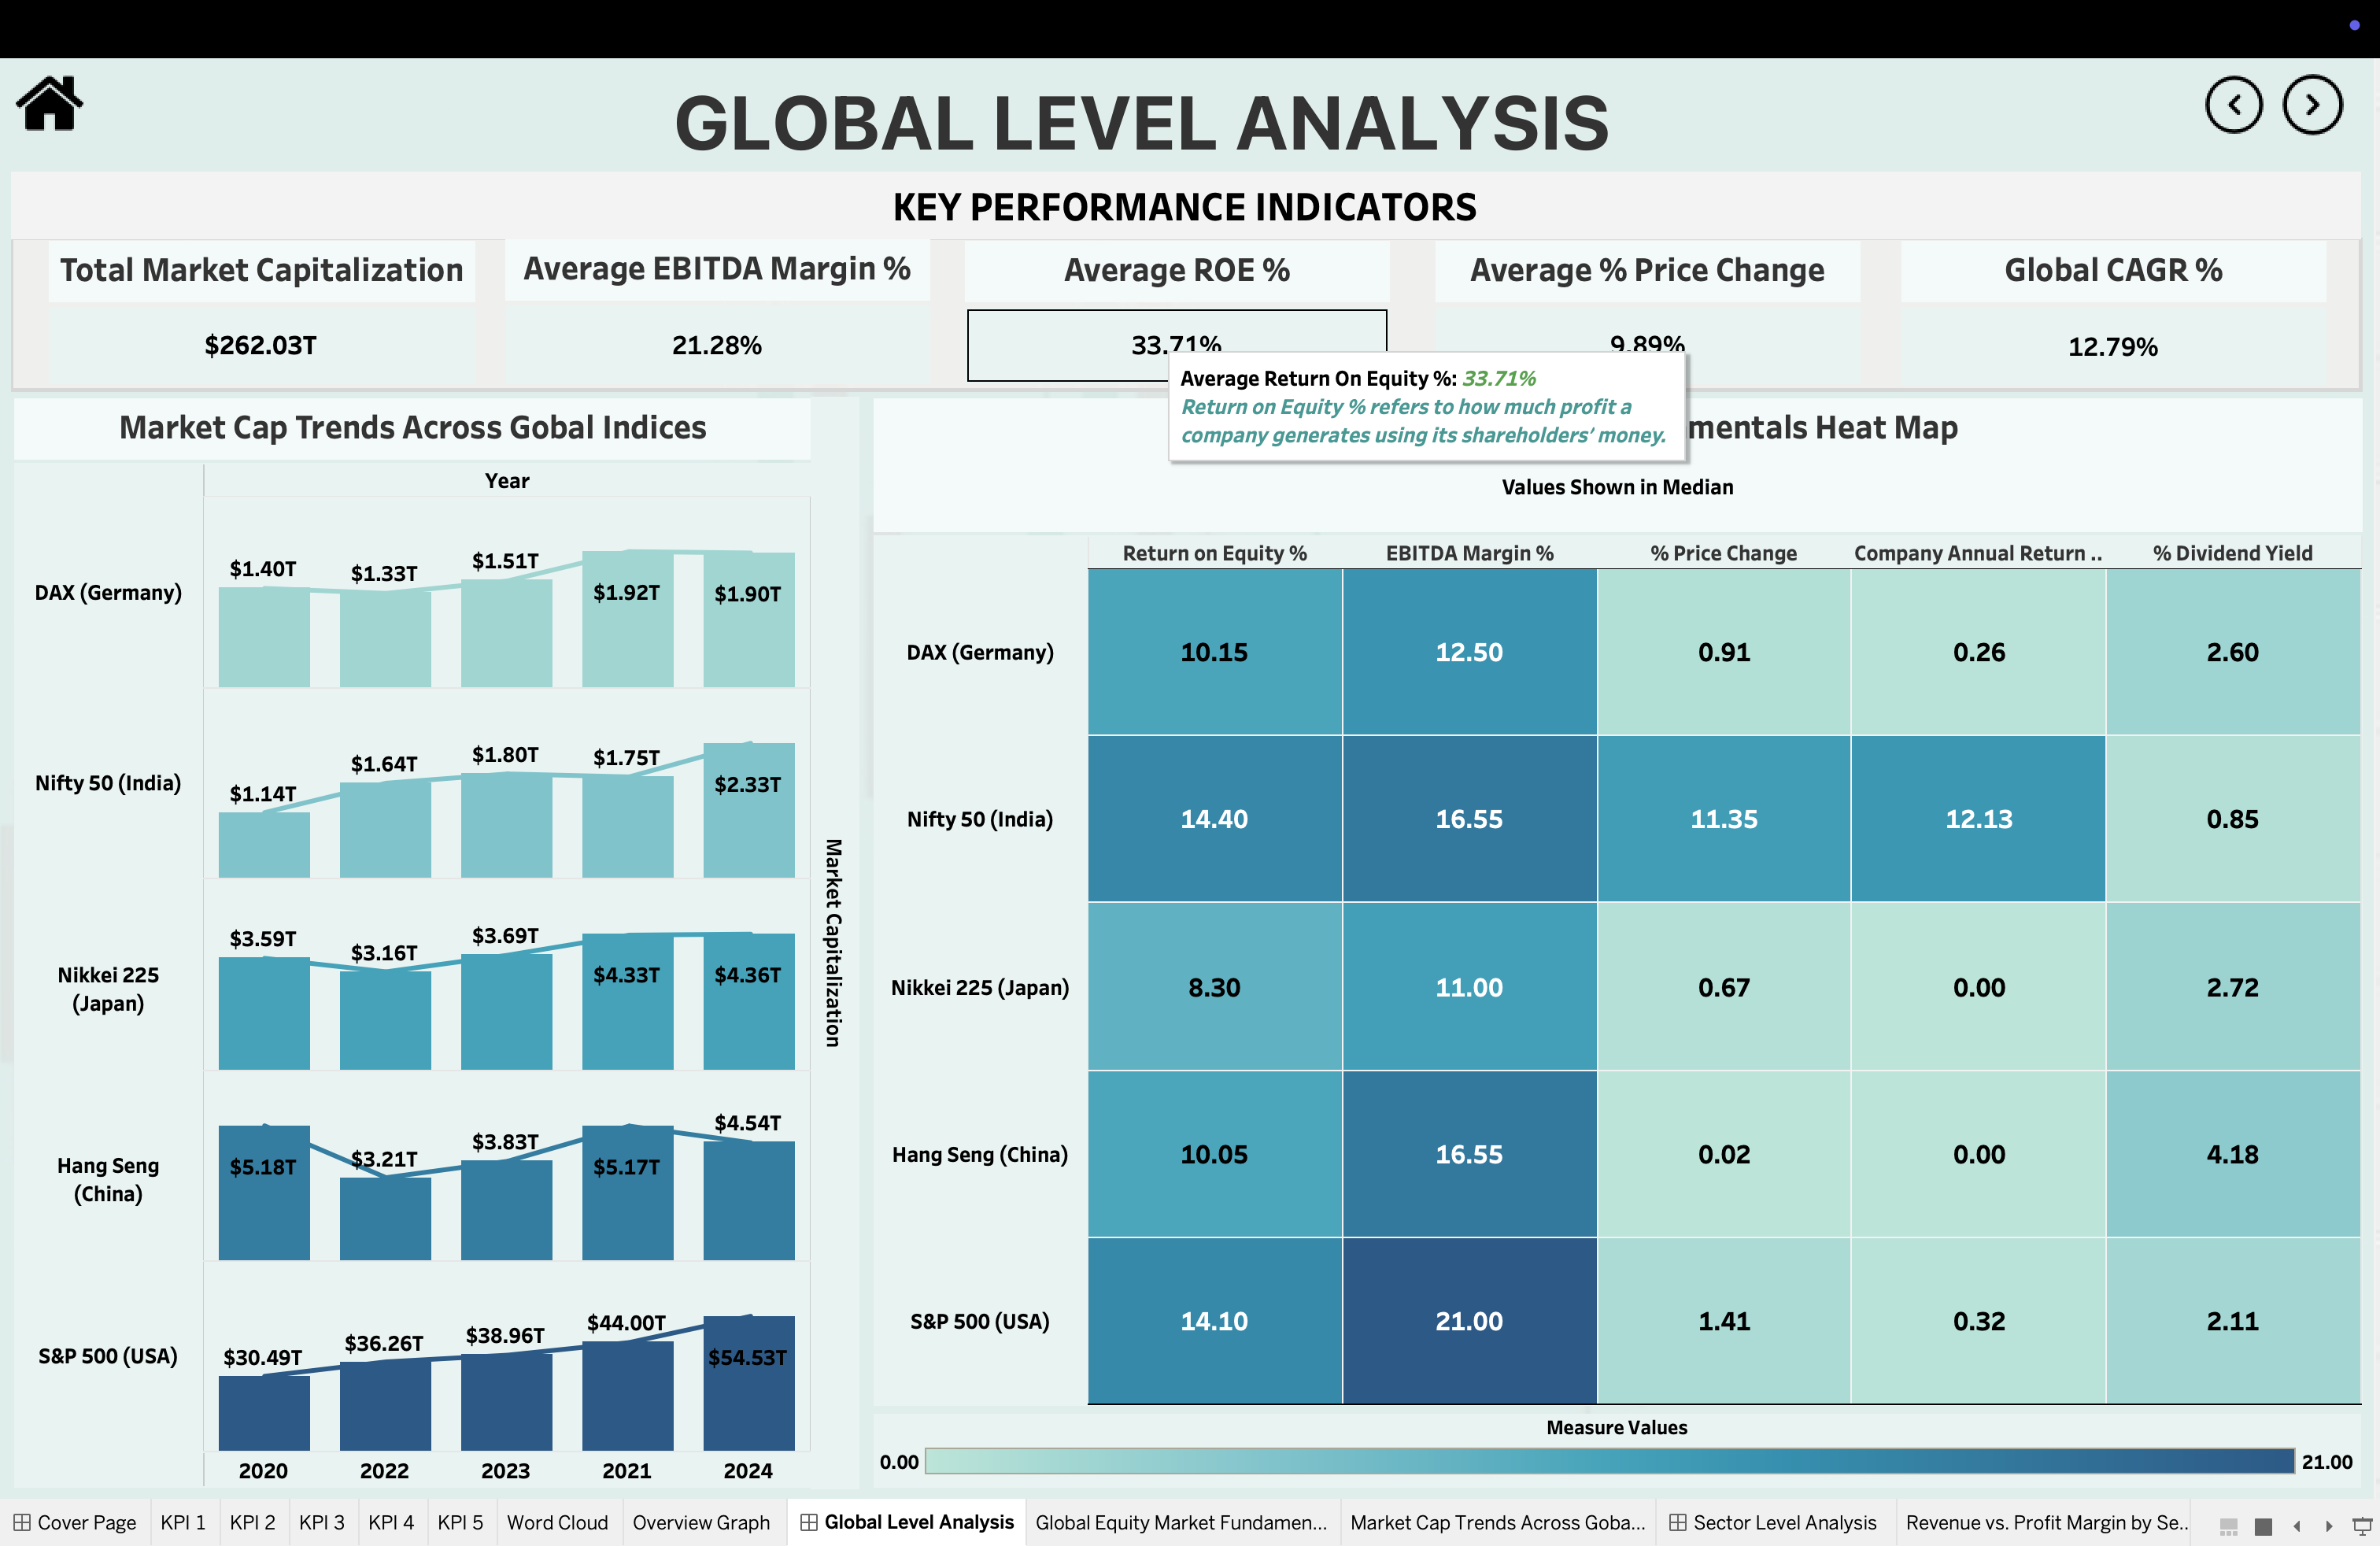

The dashboard page shown, as its layout file describes it:
{"tool":"tableau","page":{"name":"Global Level Analysis","canvas":[1000,1000],"units":"permille","ordinal":2},"visuals":[{"type":"dashboard-object","box":[3.9,7.5,33.4,46.8]},{"type":"worksheet","title":"Global Info.","mark":"Automatic","box":[43.2,7.5,875.2,74.7]},{"type":"dashboard-object","box":[925.4,7.5,27.3,48.3]},{"type":"dashboard-object","box":[955.4,9.1,32.9,46.8]},{"type":"worksheet","title":"KPI TITLE","mark":"Automatic","box":[4.9,79.2,987.5,47.5]},{"type":"worksheet","title":"box (3)","mark":"Automatic","box":[4.9,124.4,988.4,107.1]},{"type":"worksheet","title":"KPI 2","mark":"Automatic","box":[212.6,125.9,178.2,100.3]},{"type":"worksheet","title":"KPI 1","mark":"Automatic","box":[20.5,126.7,179.1,99.5]},{"type":"worksheet","title":"KPI 3","mark":"Automatic","box":[405.5,126.7,178.7,99.5]},{"type":"worksheet","title":"KPI 4","mark":"Automatic","box":[603.4,126.7,178.2,99.5]},{"type":"worksheet","title":"KPI 5","mark":"Automatic","box":[799,126.7,178.7,100.3]},{"type":"worksheet","title":"marketcap title","mark":"Automatic","box":[340.9,235.3,20.5,758.7]},{"type":"worksheet","title":"Market Cap Trends Across Gobal Indices","mark":"Bar","rows":["Index","Market Capitalization","Market Capitalization (copy)_412360849248104448"],"cols":["Year"],"box":[5.8,236.1,335.6,757.9]},{"type":"worksheet","title":"Global Equity Market Fundamentals Heat Map","mark":"Square","rows":["Index"],"box":[366.8,236.1,625.7,699.9]},{"type":"legend","title":"Global Equity Market Fundamentals Heat Map","param":"[federated.0pgchlx1p5gws61gtvl2m0kqny3y].[Multiple Values]","box":[366.8,941.2,625.2,51.3]}]}

Visuals, with their boxes on the dashboard's canvas, which has no fixed pixel size, in thousandths of its width and height (x1, y1, x2, y2). These are canvas units, not pixel positions in the 2380x1546 screenshot, which may show the page scaled, cropped or inside an application window:
dashboard-object: Rect(4, 8, 37, 54)
"Global Info." worksheet: Rect(43, 8, 918, 82)
dashboard-object: Rect(925, 8, 953, 56)
dashboard-object: Rect(955, 9, 988, 56)
"KPI TITLE" worksheet: Rect(5, 79, 992, 127)
"box (3)" worksheet: Rect(5, 124, 993, 232)
"KPI 2" worksheet: Rect(213, 126, 391, 226)
"KPI 1" worksheet: Rect(20, 127, 200, 226)
"KPI 3" worksheet: Rect(406, 127, 584, 226)
"KPI 4" worksheet: Rect(603, 127, 782, 226)
"KPI 5" worksheet: Rect(799, 127, 978, 227)
"marketcap title" worksheet: Rect(341, 235, 361, 994)
"Market Cap Trends Across Gobal Indices" worksheet (Bar marks): Rect(6, 236, 341, 994)
"Global Equity Market Fundamentals Heat Map" worksheet (Square marks): Rect(367, 236, 992, 936)
"Global Equity Market Fundamentals Heat Map" legend: Rect(367, 941, 992, 992)
